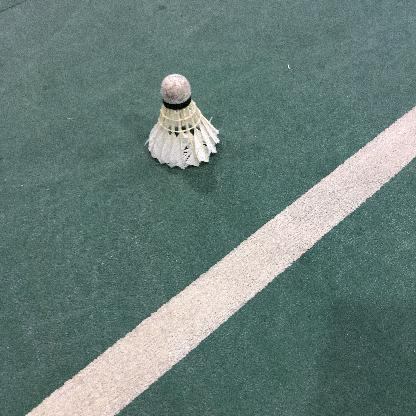ball_single: (148, 74, 220, 169)
